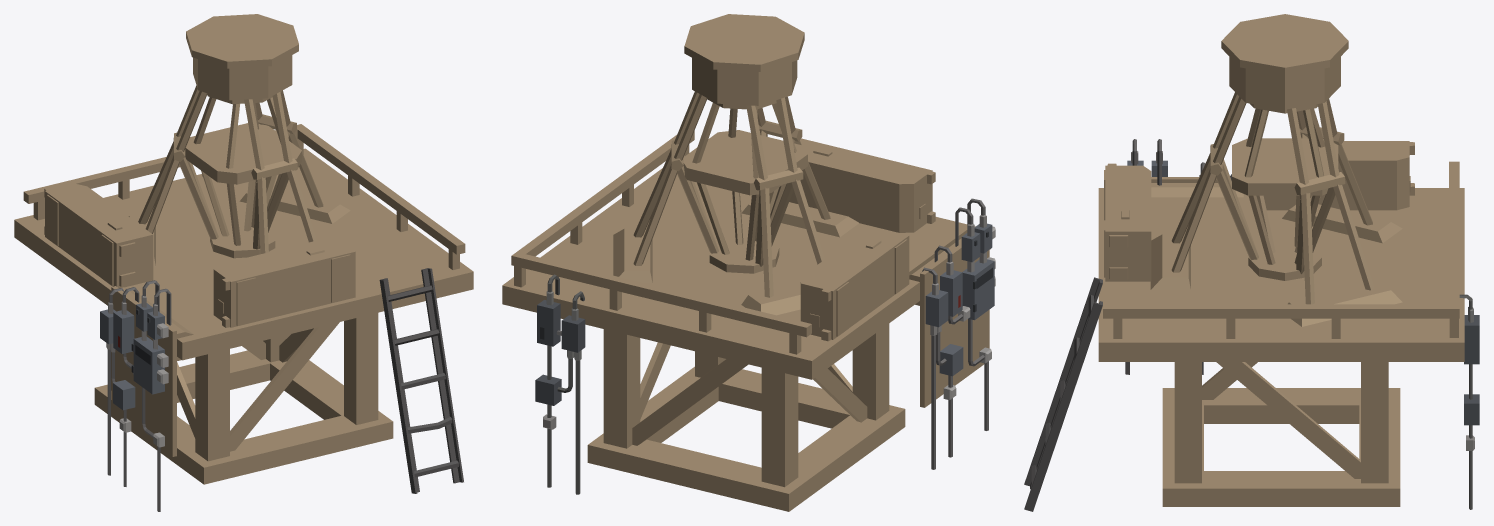
File: SM_Prop_Satelite_Dish_02.fbx
3 views of the same model, side by side, from view 1: azimuth 30°, elevation 25°; view 2: azimuth 150°, elevation 25°; view 3: azimuth 270°, elevation 25° (orthographic). The views are drawn at different scales.
Parts seen in each view (by area): view 1: SM_Prop_Satelite_Dish_02; view 2: SM_Prop_Satelite_Dish_02; view 3: SM_Prop_Satelite_Dish_02.
Part boxes in pixels (x1,y1,x2,y2): SM_Prop_Satelite_Dish_02: [14, 14, 473, 511]; SM_Prop_Satelite_Dish_02: [502, 14, 995, 511]; SM_Prop_Satelite_Dish_02: [1024, 14, 1479, 511].
Size of the model in its own units: 363 by 431 by 426.
